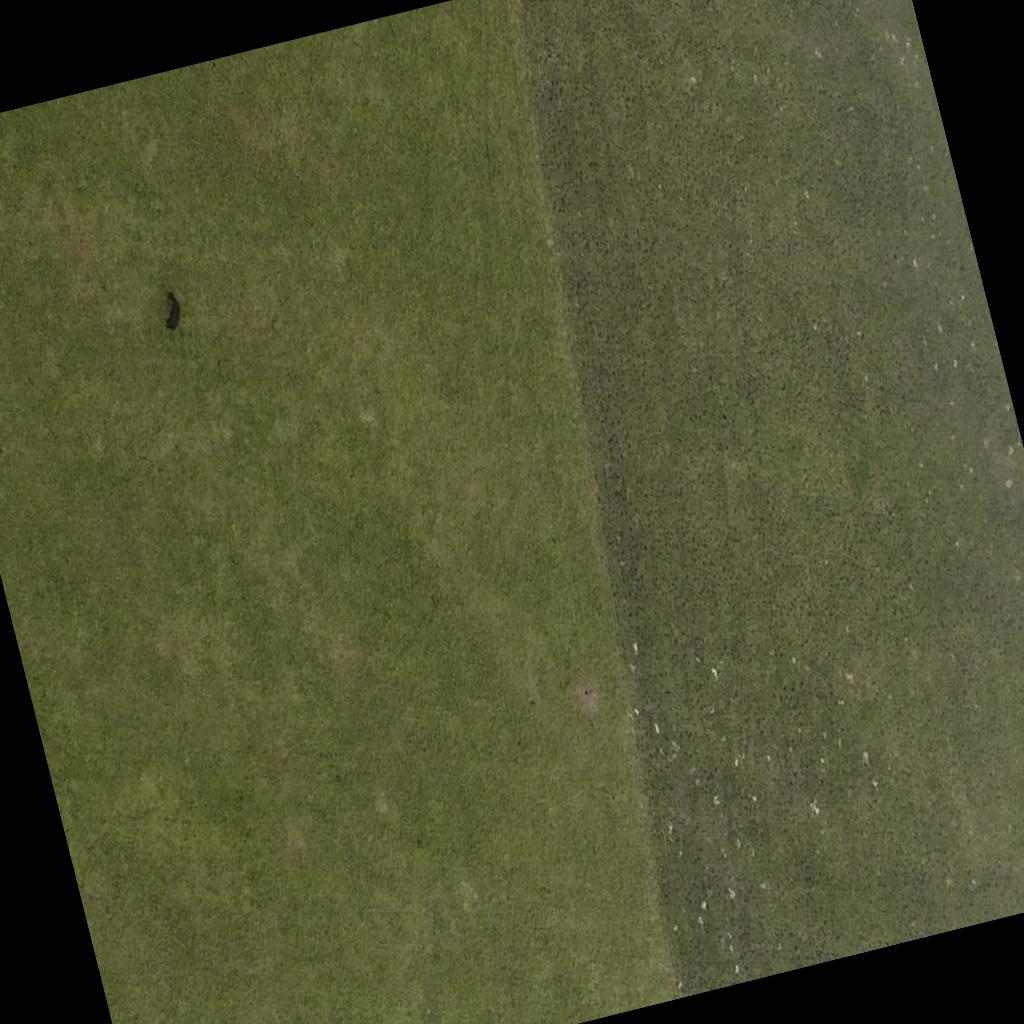cow: (156, 288, 186, 334)
